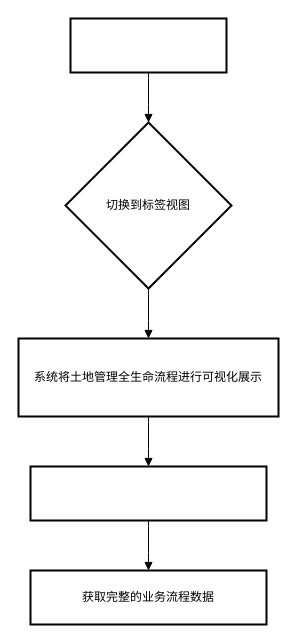
Image size: 296x642. Some labels were removed from this diagram. Here are the shapes that lost their labels. From the top down, the box of each, then its label:
(69, 17, 227, 73): 点击控规地块
(29, 465, 267, 521): 点击单项以查看详细信息
